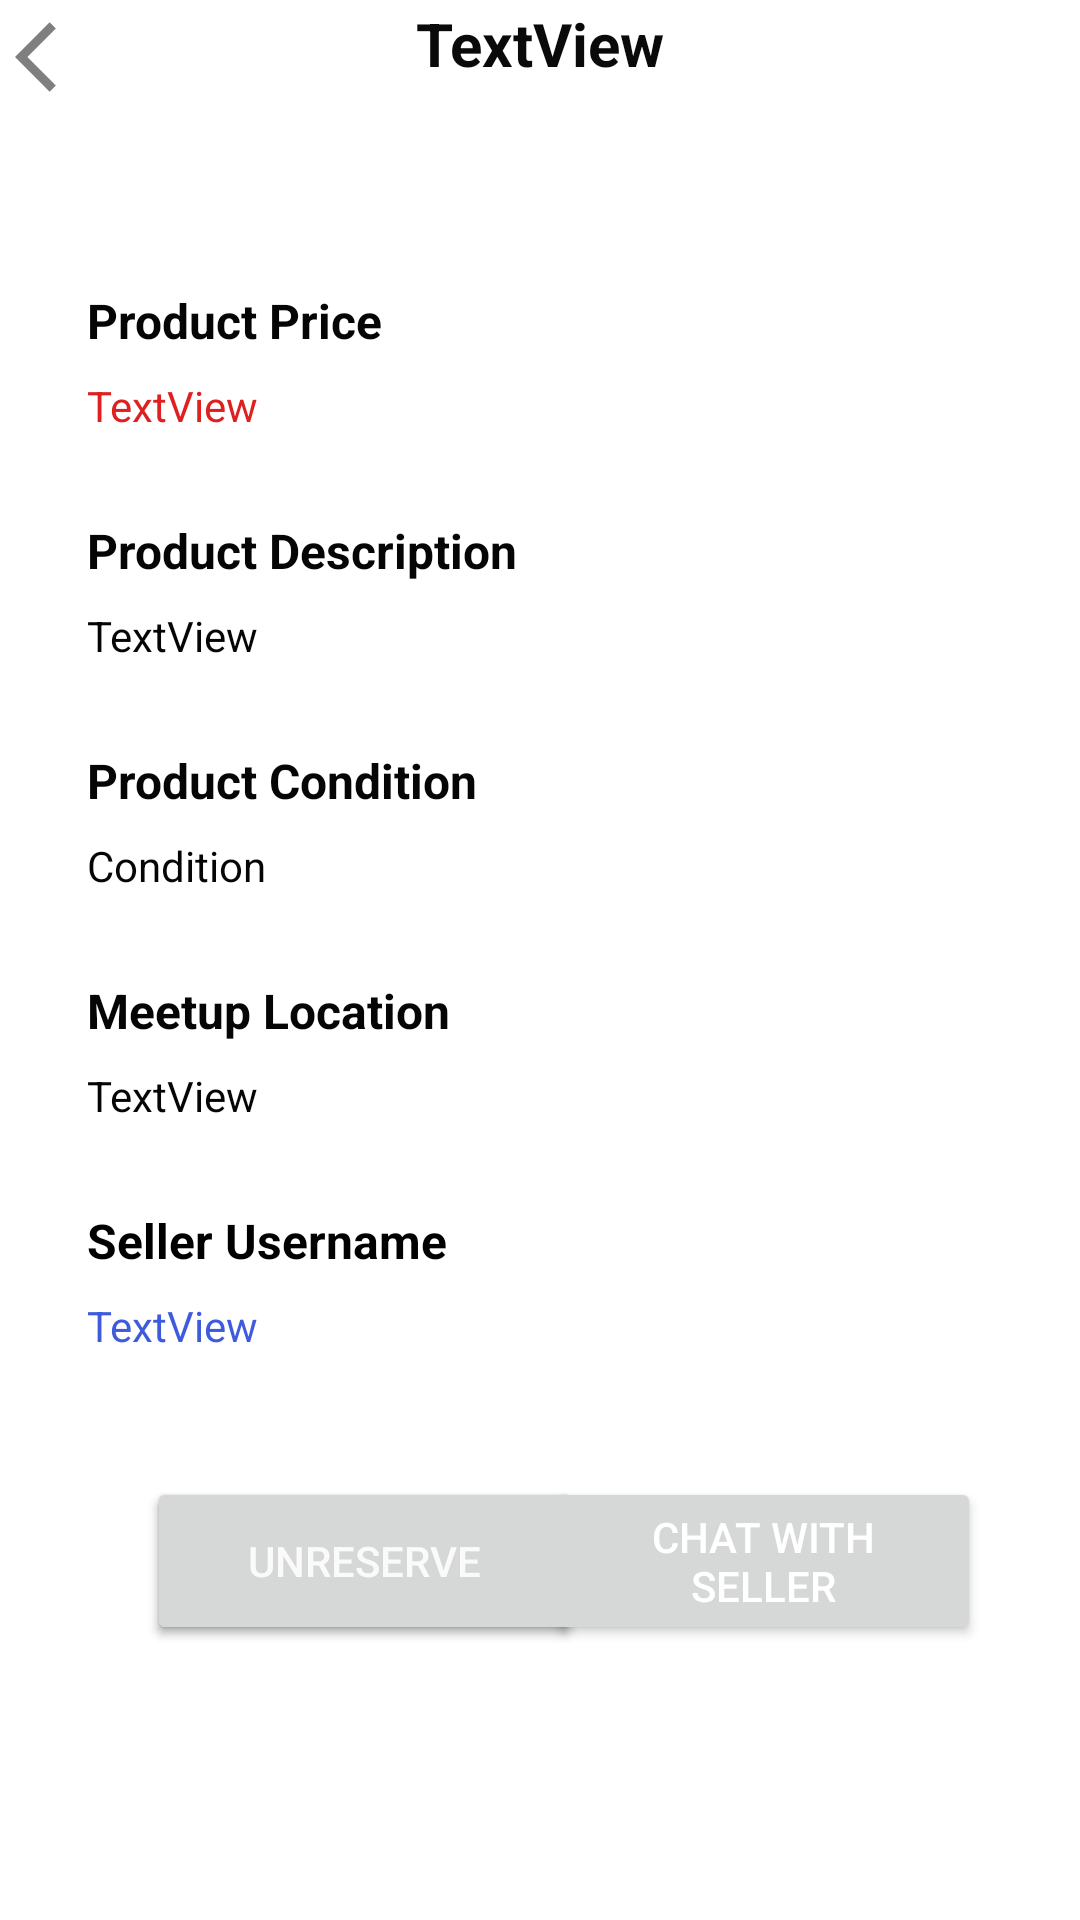

Named icons in this screenshot (1080px×1920px) and their centers, (x,y):
back: (35,57)
